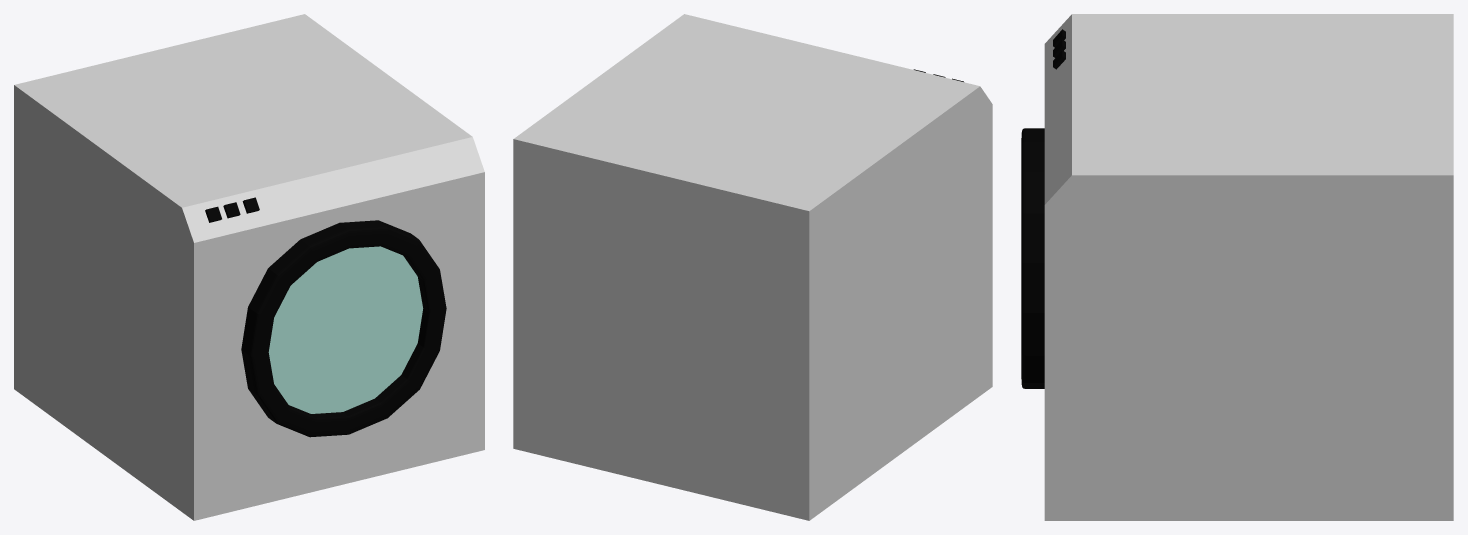
File: Lavaropas.fbx
The picture shows the model from 3 angles, left to right: view 1: azimuth 30°, elevation 25°; view 2: azimuth 150°, elevation 25°; view 3: azimuth 270°, elevation 25°; orthographic projection. The views are drawn at different scales.
Visible parts, largest first — view 1: Lavaropas; view 2: Lavaropas; view 3: Lavaropas.
Part boxes in pixels (x1=…): Lavaropas: x1=14, y1=14, x2=484, y2=520; Lavaropas: x1=513, y1=14, x2=992, y2=520; Lavaropas: x1=1021, y1=14, x2=1453, y2=520.
Size of the model in its own units: 272 by 272 by 308.
